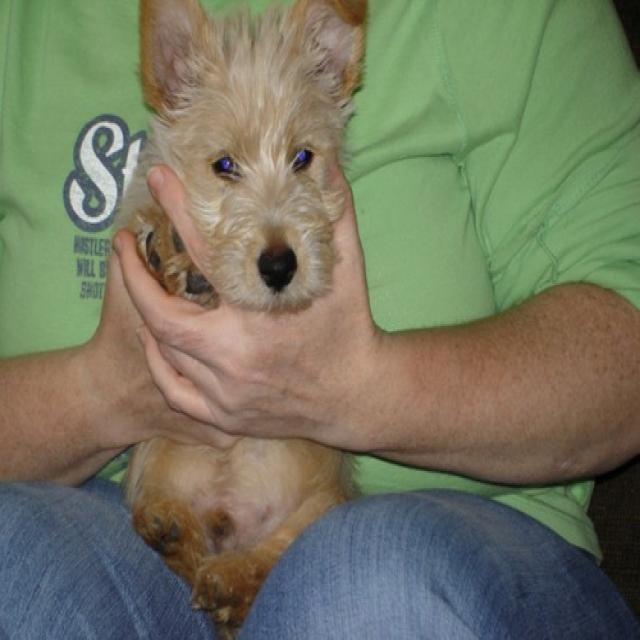dog-scottish_terrier: (125, 2, 369, 312)
